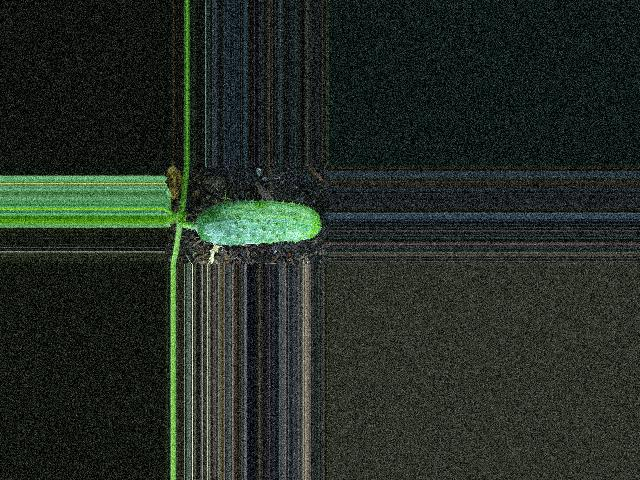cucumber: (196, 199, 322, 245)
